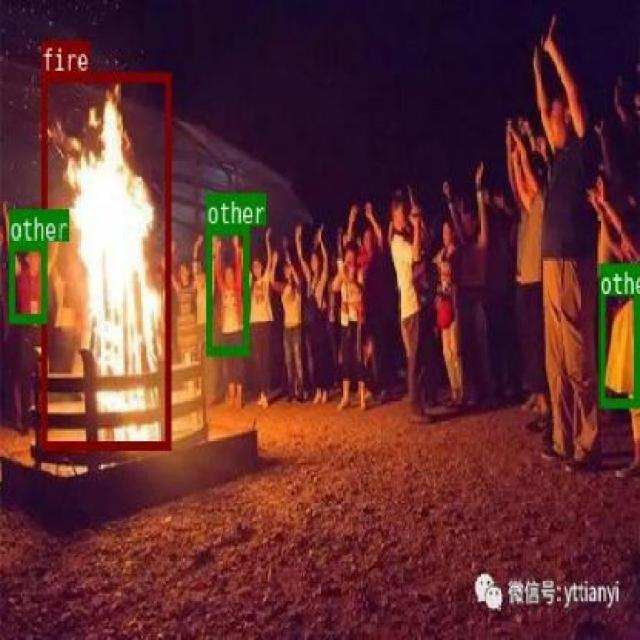Fire: (41, 71, 170, 448)
